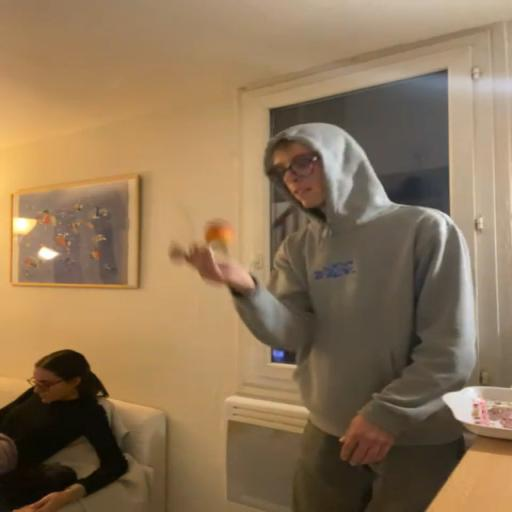kendama_ball: (204, 218, 236, 250)
